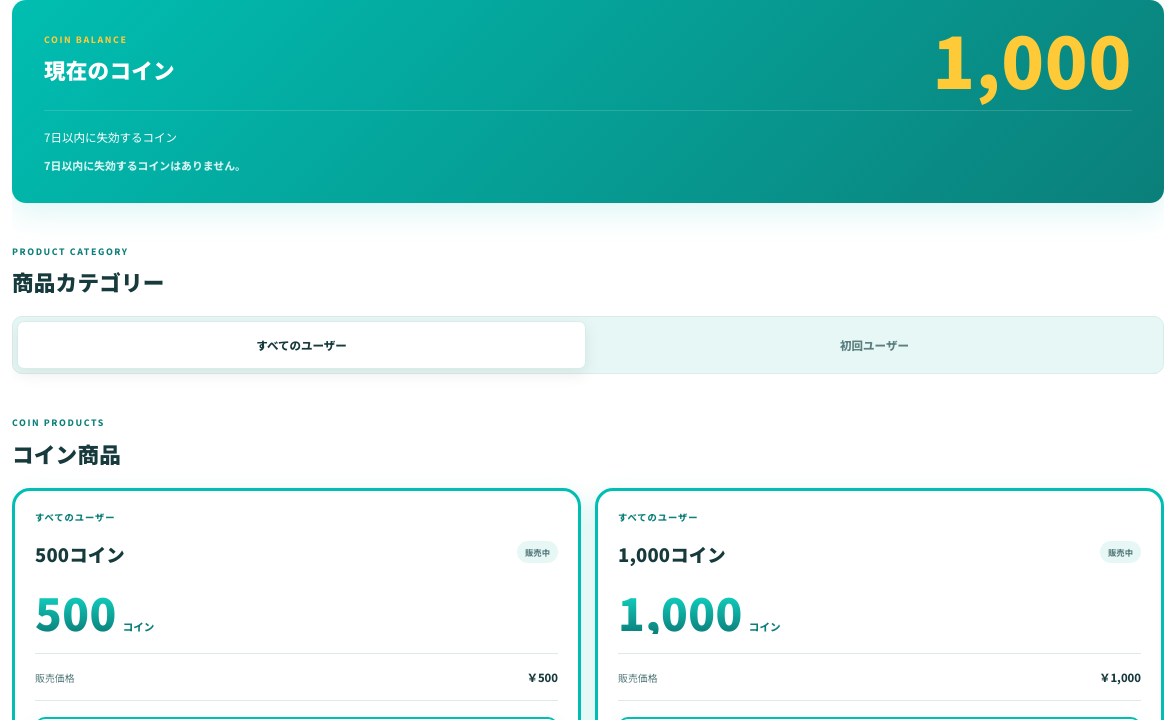
Test: isolated first-buy layout › shows the ordinary list without a clock for expired
Click the tab "初回ユーザー". click: [874, 346]
box: x1=590 y1=322 x2=1159 y2=370
(page scrolled)
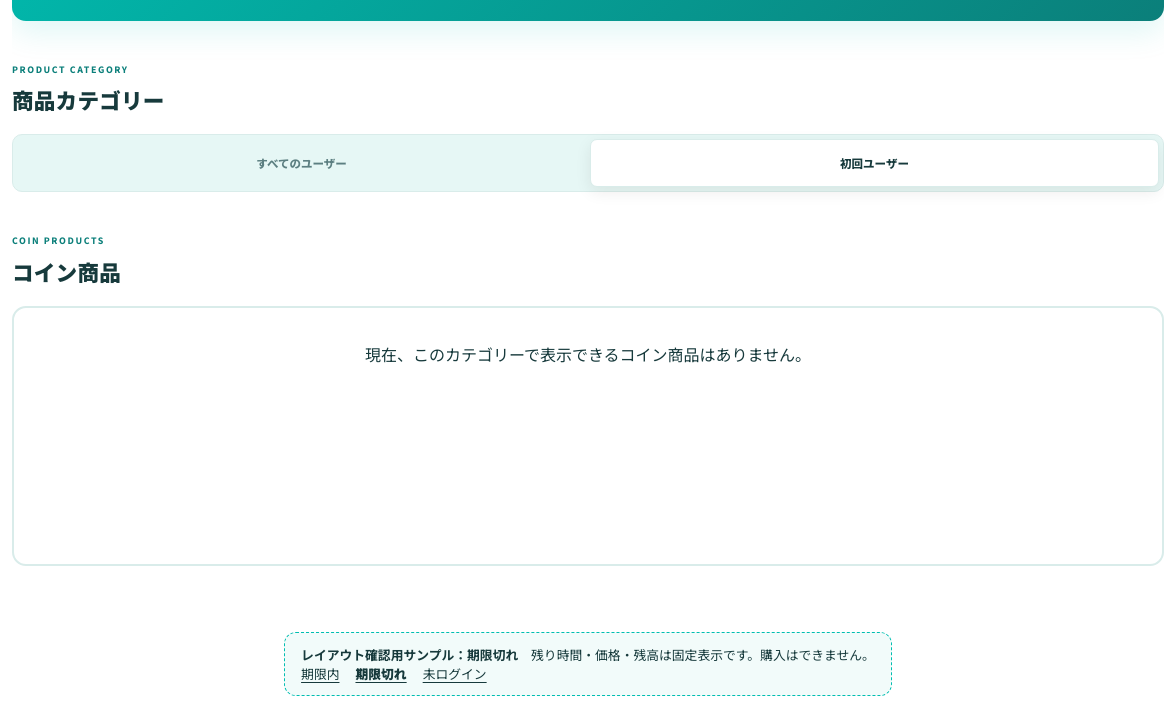
Expected: the text "現在、このカテゴリーで表示できるコイン商品はありません。" is shown, x1=12 y1=306 x2=1163 y2=566
